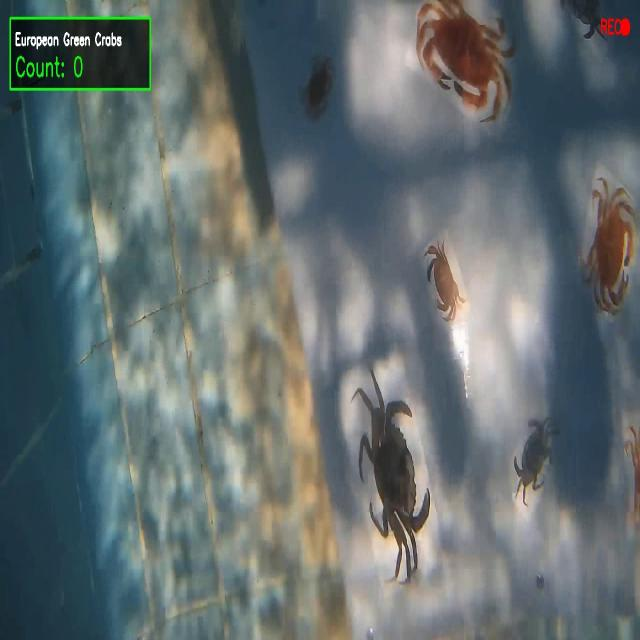European_Green_Crab: (345, 350, 446, 590), (500, 398, 571, 524), (562, 0, 603, 46)
